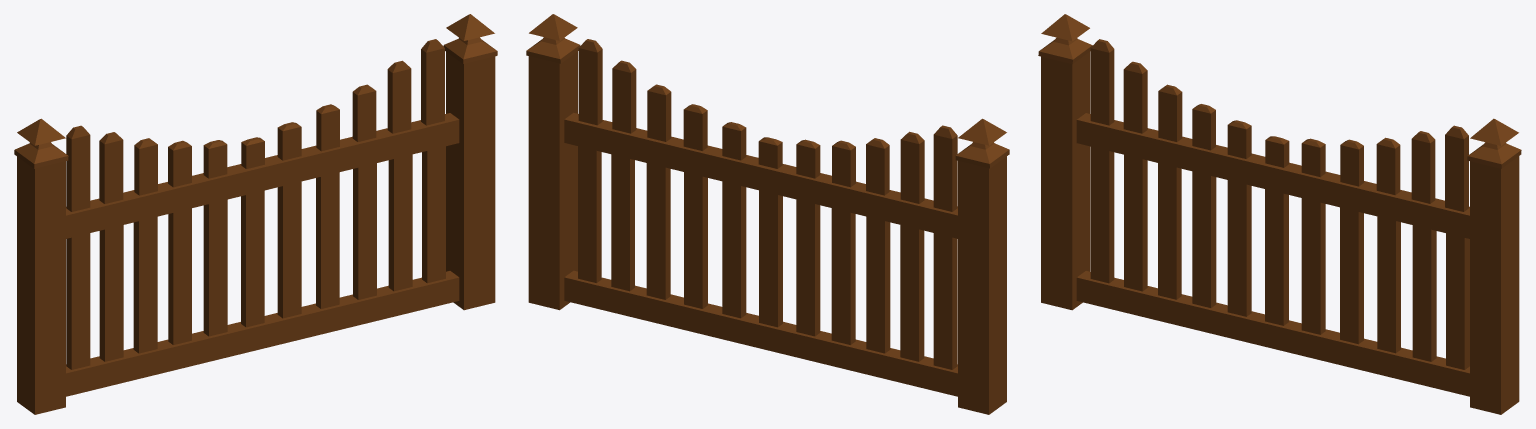
Rendered from fench.gltf.
The picture shows the model from 3 angles, left to right: view 1: azimuth 30°, elevation 25°; view 2: azimuth 150°, elevation 25°; view 3: azimuth 330°, elevation 25°; orthographic projection.
Parts seen in each view (by area): view 1: Plank down.005; view 2: Plank down.005; view 3: Plank down.005.
Boxes of the visible parts, x1=… form: Plank down.005: x1=14, y1=14, x2=497, y2=414; Plank down.005: x1=526, y1=14, x2=1009, y2=414; Plank down.005: x1=1038, y1=14, x2=1521, y2=414.
Size of the model in its own units: 10.39 by 6.12 by 0.7709.
